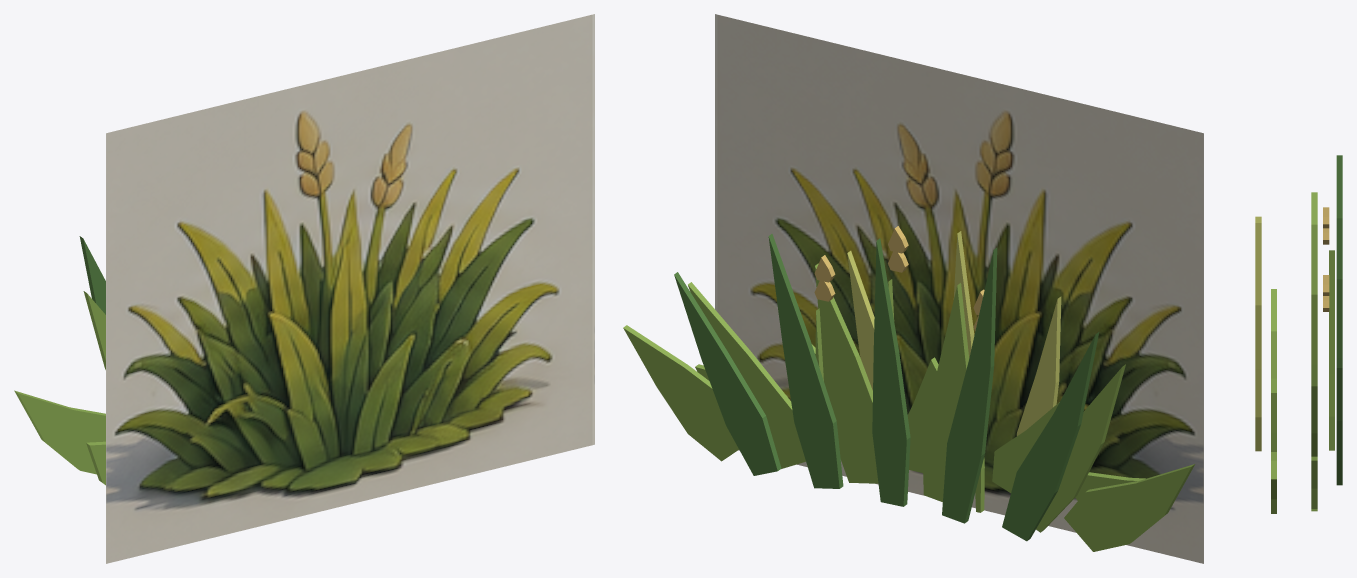
Rendered from GG-VEG-GRASS-COASTAL-TUFT-001_LOD_CLOSE.glb.
3 renders of one model, left to right at view 1: azimuth 30°, elevation 25°; view 2: azimuth 150°, elevation 25°; view 3: azimuth 270°, elevation 25°, orthographic. The views are drawn at different scales.
Parts seen in each view (by area): view 1: GG_VEG_V3_REFERENCE_DERIVED_COLOUR_MASS_LAYER, GG_VEG_V3_MIDDLE_1, GG_VEG_V3_REAR_DARK_1; view 2: GG_VEG_V3_REFERENCE_DERIVED_COLOUR_MASS_LAYER, GG_VEG_V3_REAR_DARK_4, GG_VEG_V3_REAR_DARK_2, GG_VEG_V3_REAR_DARK_3, GG_VEG_V3_MIDDLE_4, GG_VEG_V3_REAR_DARK_1, GG_VEG_V3_REAR_DARK_5, GG_VEG_V3_MIDDLE_1, GG_VEG_V3_MIDDLE_6, GG_VEG_V3_MIDDLE_3, GG_VEG_V3_MIDDLE_5, GG_VEG_V3_MIDDLE_2 (+5 smaller); view 3: GG_VEG_V3_HIGHLIGHT_3, GG_VEG_V3_REAR_DARK_5, GG_VEG_V3_SEED_STEM_3, GG_VEG_V3_MIDDLE_4, GG_VEG_V3_REAR_DARK_4, GG_VEG_V3_HIGHLIGHT_2, GG_VEG_V3_MIDDLE_3, GG_VEG_V3_MIDDLE_5, GG_VEG_V3_REAR_DARK_2, GG_VEG_V3_REAR_DARK_3, GG_VEG_V3_SEED_STEM_2, GG_VEG_V3_MIDDLE_6 (+5 smaller).
Boxes of the visible parts, x1,y1,x2,y2 form: GG_VEG_V3_REFERENCE_DERIVED_COLOUR_MASS_LAYER: [106, 14, 594, 563]; GG_VEG_V3_MIDDLE_1: [14, 390, 105, 474]; GG_VEG_V3_REAR_DARK_1: [79, 236, 105, 314]; GG_VEG_V3_REFERENCE_DERIVED_COLOUR_MASS_LAYER: [715, 14, 1203, 563]; GG_VEG_V3_REAR_DARK_4: [768, 234, 843, 488]; GG_VEG_V3_REAR_DARK_2: [942, 247, 997, 523]; GG_VEG_V3_REAR_DARK_3: [872, 238, 910, 506]; GG_VEG_V3_MIDDLE_4: [815, 263, 878, 483]; GG_VEG_V3_REAR_DARK_1: [1002, 332, 1099, 541]; GG_VEG_V3_REAR_DARK_5: [674, 272, 781, 475]; GG_VEG_V3_MIDDLE_1: [1064, 464, 1194, 551]; GG_VEG_V3_MIDDLE_6: [623, 325, 738, 461]; GG_VEG_V3_MIDDLE_3: [922, 283, 969, 502]; GG_VEG_V3_MIDDLE_5: [688, 282, 805, 468]; GG_VEG_V3_MIDDLE_2: [1036, 364, 1125, 532]; GG_VEG_V3_HIGHLIGHT_3: [1255, 305, 1261, 451]; GG_VEG_V3_REAR_DARK_5: [1336, 368, 1342, 485]; GG_VEG_V3_SEED_STEM_3: [1329, 318, 1334, 450]; GG_VEG_V3_MIDDLE_4: [1311, 294, 1317, 386]; GG_VEG_V3_REAR_DARK_4: [1336, 279, 1342, 367]; GG_VEG_V3_HIGHLIGHT_2: [1255, 223, 1261, 305]; GG_VEG_V3_MIDDLE_3: [1311, 224, 1317, 294]; GG_VEG_V3_MIDDLE_5: [1311, 386, 1317, 456]; GG_VEG_V3_REAR_DARK_2: [1336, 155, 1342, 218]; GG_VEG_V3_REAR_DARK_3: [1336, 218, 1342, 279]; GG_VEG_V3_SEED_STEM_2: [1329, 250, 1334, 317]; GG_VEG_V3_MIDDLE_6: [1311, 456, 1317, 511].
Bounding box in the file's own units: 1.4 × 1.01 × 0.286.
Materials: 5 (1 with a texture image).
